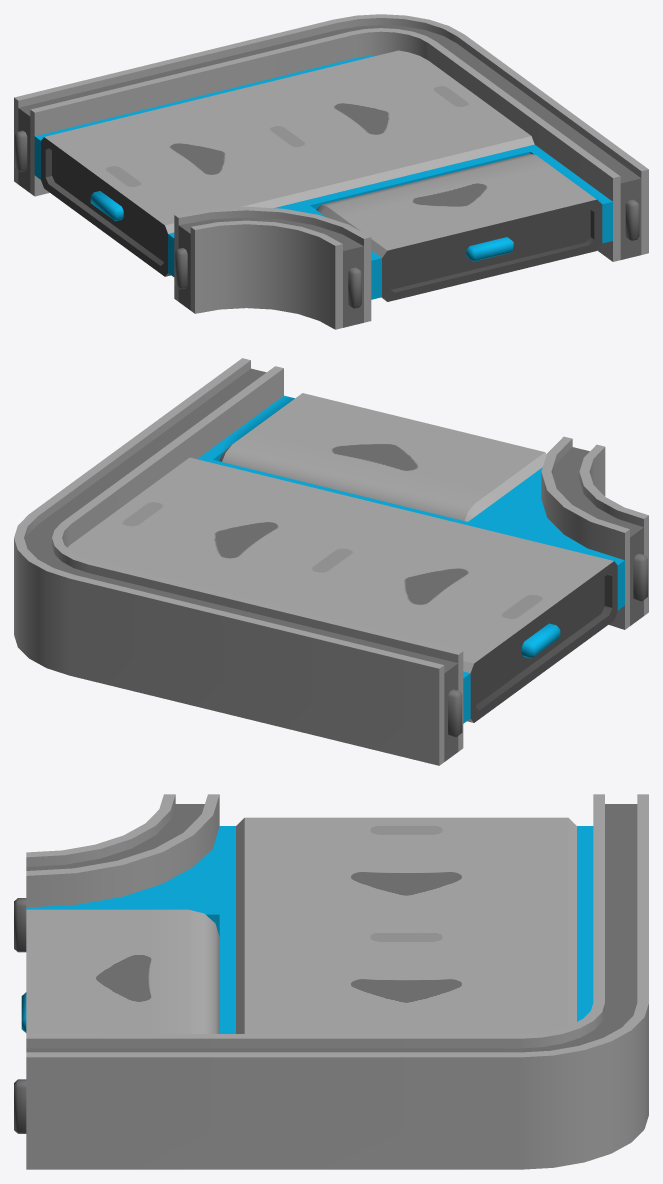
File: Conveyor_Belt_2nd_Turn_02.fbx
3 views of the same model, one above another, from view 1: azimuth 30°, elevation 25°; view 2: azimuth 150°, elevation 25°; view 3: azimuth 270°, elevation 25° (orthographic). The views are drawn at different scales.
Parts seen in each view (by area): view 1: Conveyor_Belt_2nd_Turn_02; view 2: Conveyor_Belt_2nd_Turn_02; view 3: Conveyor_Belt_2nd_Turn_02.
Part boxes in pixels (x1,y1,x2,y2): Conveyor_Belt_2nd_Turn_02: [14, 14, 648, 329]; Conveyor_Belt_2nd_Turn_02: [14, 358, 648, 765]; Conveyor_Belt_2nd_Turn_02: [14, 794, 648, 1169].
Bounding box in the file's own units: 167 × 32.6 × 167.
